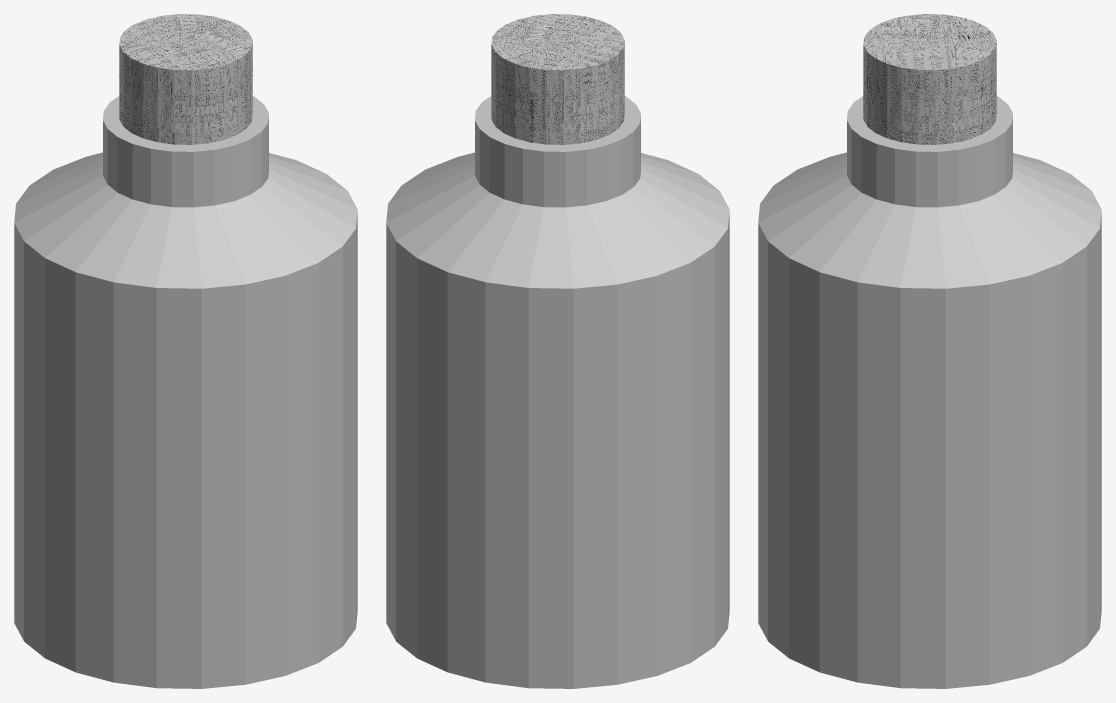
The picture shows the model from 3 angles, left to right: view 1: azimuth 30°, elevation 25°; view 2: azimuth 150°, elevation 25°; view 3: azimuth 270°, elevation 25°; orthographic projection.
Visible parts, largest first — view 1: mesh1_mesh1-geometry; view 2: mesh1_mesh1-geometry; view 3: mesh1_mesh1-geometry.
Boxes of the visible parts, x1,y1,x2,y2 form: mesh1_mesh1-geometry: [14, 14, 357, 688]; mesh1_mesh1-geometry: [386, 14, 729, 688]; mesh1_mesh1-geometry: [758, 14, 1101, 688].
Size of the model in its own units: 0.4302 by 0.7936 by 0.4302.
